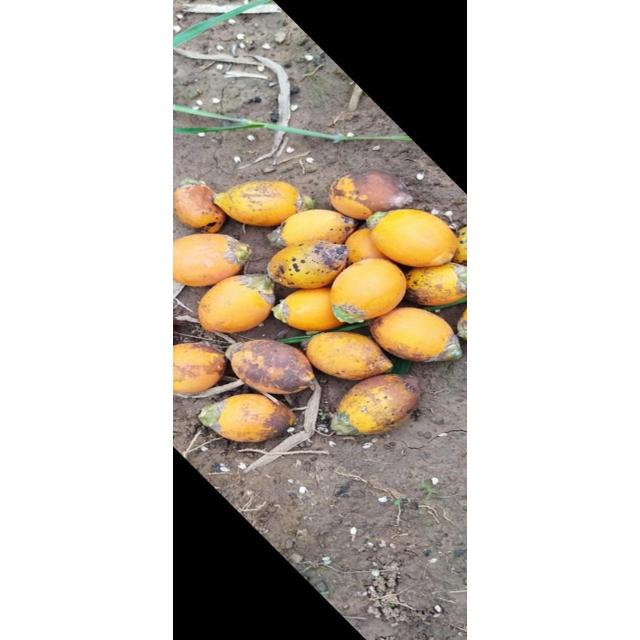good: (328, 374, 422, 434), (369, 209, 457, 267), (368, 308, 462, 362), (227, 339, 316, 395), (329, 259, 406, 323), (198, 394, 296, 442), (198, 274, 276, 334), (304, 332, 394, 380), (212, 180, 304, 226), (266, 240, 350, 290), (330, 170, 412, 220), (173, 235, 250, 288), (270, 210, 356, 248), (273, 287, 347, 331), (403, 262, 467, 306), (173, 180, 225, 232), (174, 342, 226, 394), (344, 228, 392, 264)
